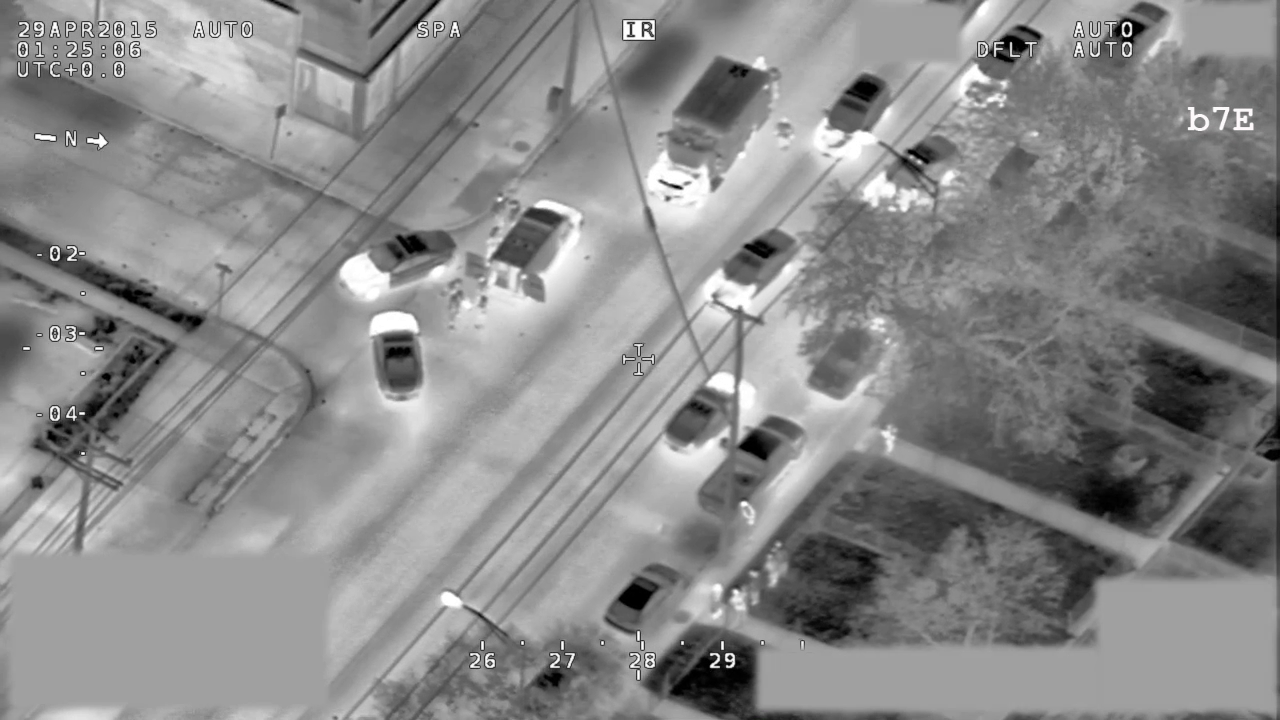vehicle: (644, 54, 783, 208), (464, 197, 593, 302), (699, 412, 810, 525), (333, 226, 461, 308), (861, 130, 965, 224), (705, 225, 802, 321), (808, 304, 903, 402), (956, 19, 1045, 112), (663, 377, 756, 458), (1083, 1, 1171, 85), (602, 561, 694, 639), (986, 119, 1070, 203), (814, 73, 892, 158), (368, 310, 431, 412), (517, 647, 604, 720)
